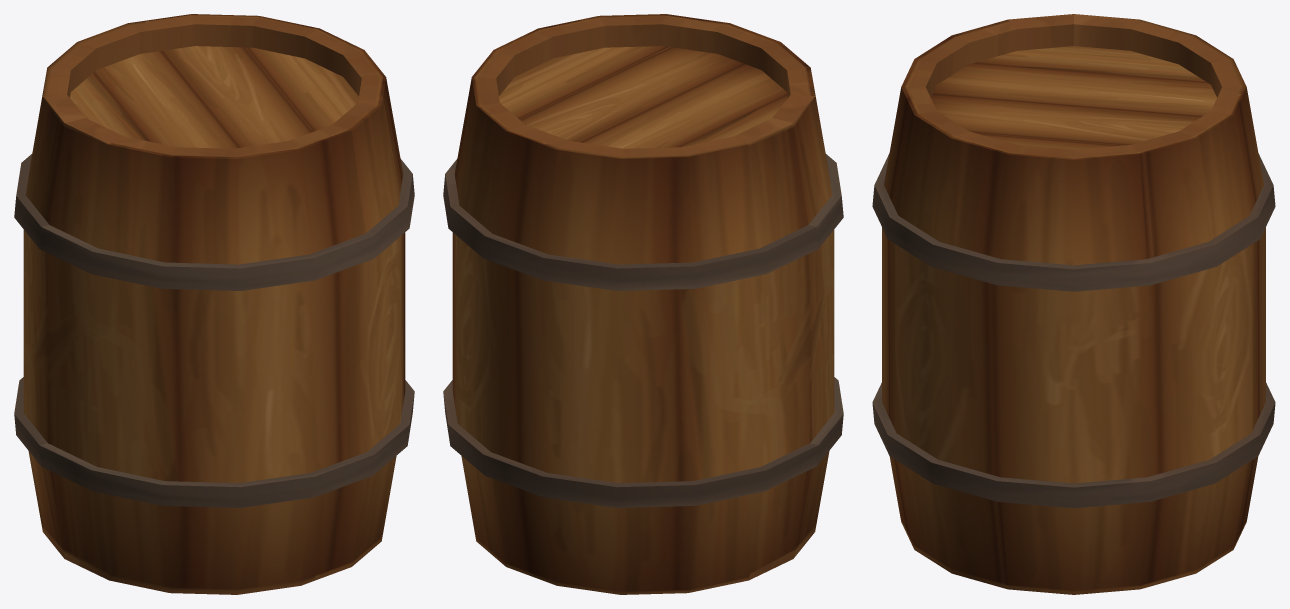
The model's file is Barrel.001.fbx.
The picture shows the model from 3 angles, left to right: view 1: azimuth 30°, elevation 25°; view 2: azimuth 150°, elevation 25°; view 3: azimuth 270°, elevation 25°; orthographic projection.
Parts seen in each view (by area): view 1: Barrel.001; view 2: Barrel.001; view 3: Barrel.001.
Boxes of the visible parts, bbox=[...] form: Barrel.001: bbox=[14, 14, 414, 594]; Barrel.001: bbox=[443, 14, 843, 594]; Barrel.001: bbox=[872, 14, 1275, 594].
Size of the model in its own units: 84 by 100 by 84.
